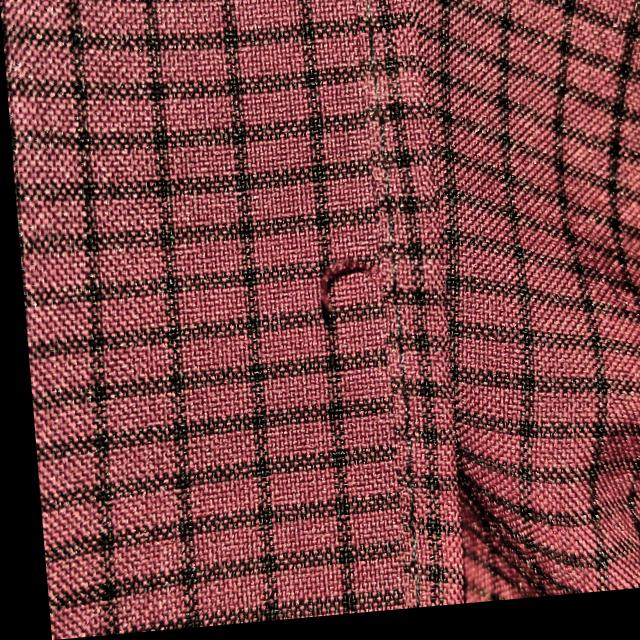Stitch: (296, 237, 397, 360)
